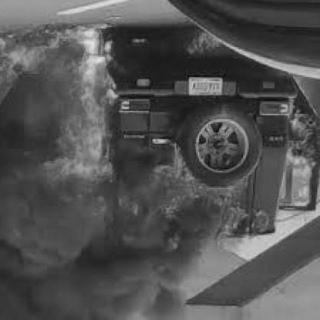Fire: (3, 32, 319, 250)
